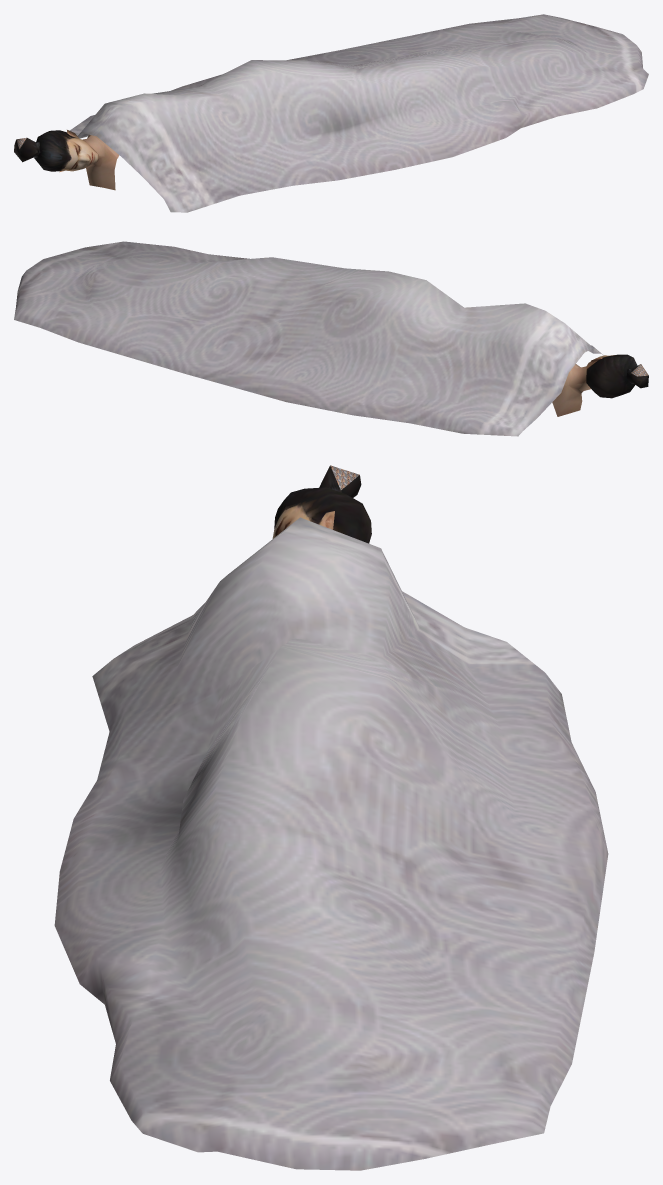
The model's file is chuang01_biaonan_55_33_9194out.fbx.
3 views of the same model, one above another, from view 1: azimuth 30°, elevation 25°; view 2: azimuth 150°, elevation 25°; view 3: azimuth 270°, elevation 25° (orthographic). The views are drawn at different scales.
Visible parts, largest first — view 1: chuang01_juese; view 2: chuang01_juese; view 3: chuang01_juese.
Part boxes in pixels (x1=…): chuang01_juese: x1=14, y1=14, x2=648, y2=212; chuang01_juese: x1=14, y1=241, x2=648, y2=436; chuang01_juese: x1=54, y1=465, x2=608, y2=1170.
Bounding box in the file's own units: 2.61 × 0.3361 × 1.02.
